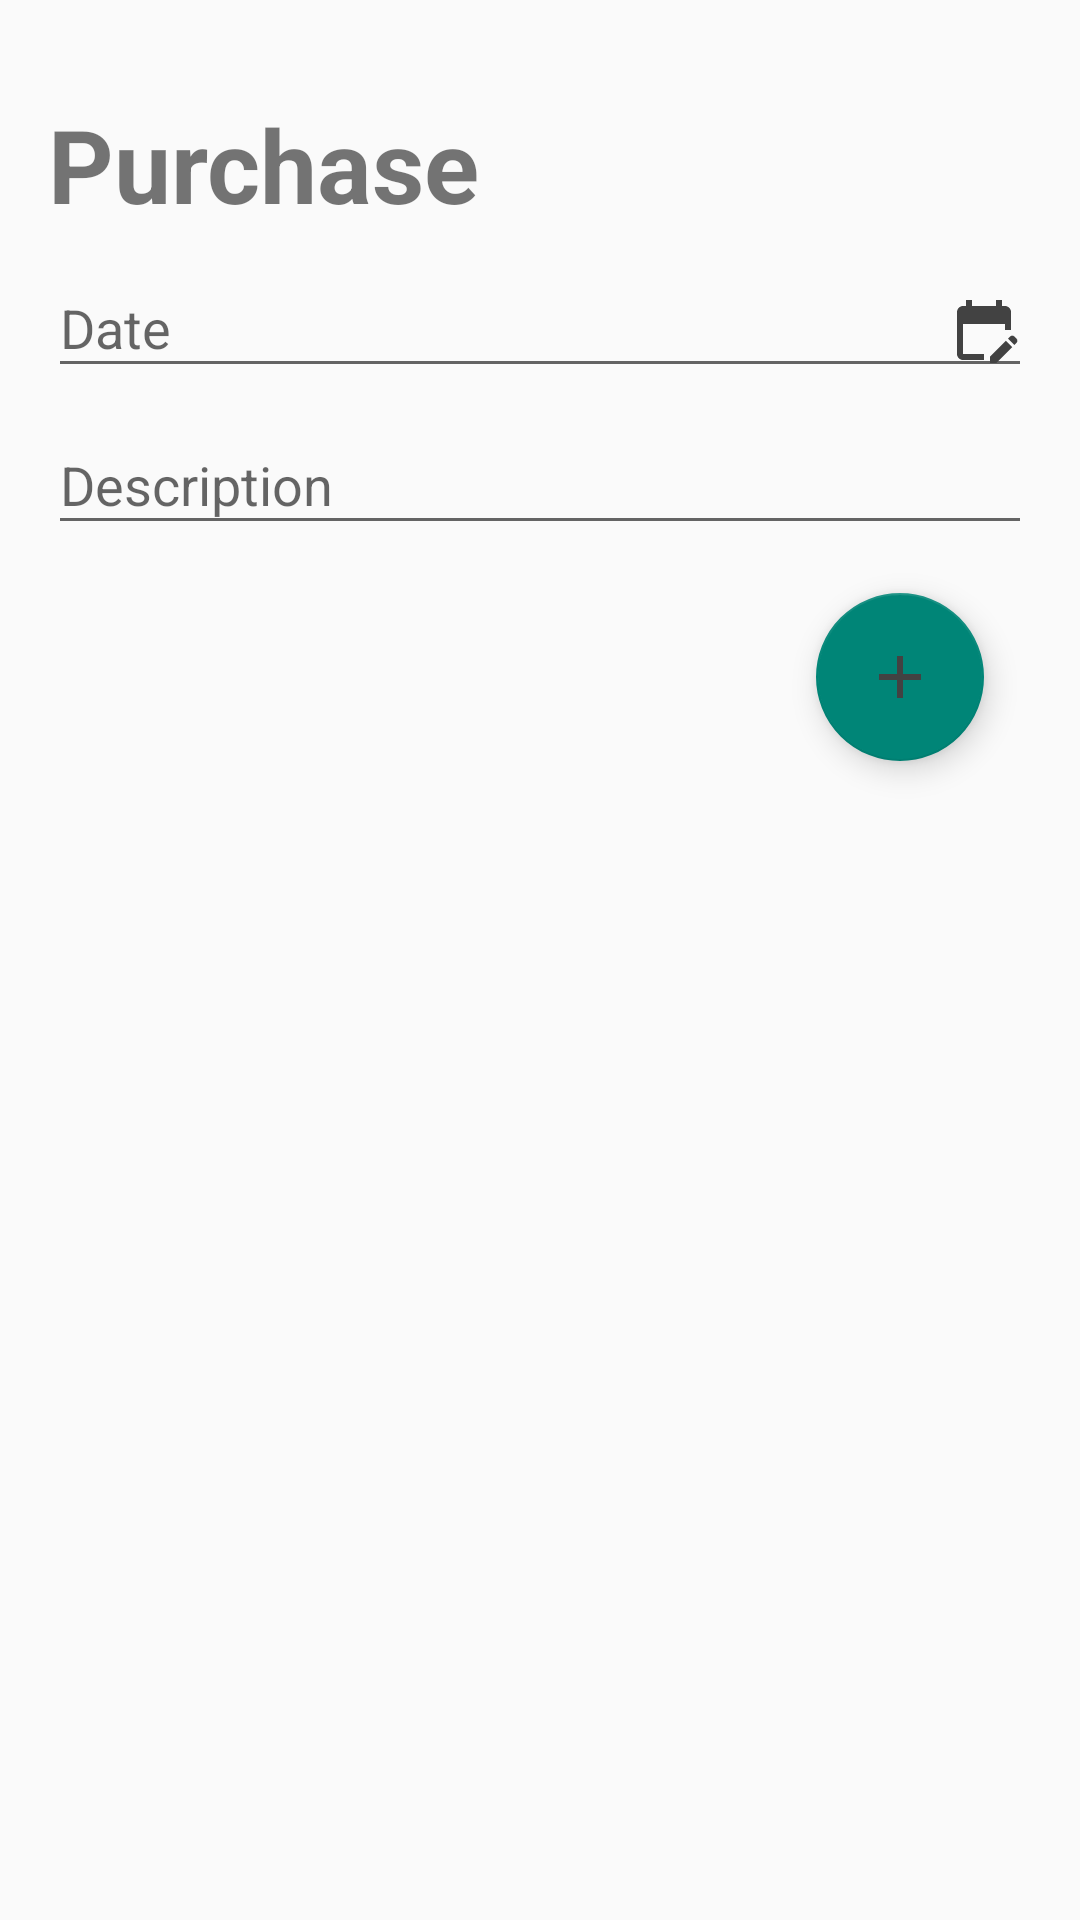

Icon click points for this 1080×1920 phone screenshot, format [x,y]:
add: [900,677]
